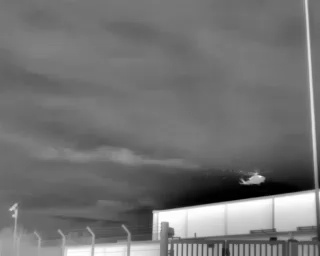HELICOPTER: (227, 164, 278, 190)
